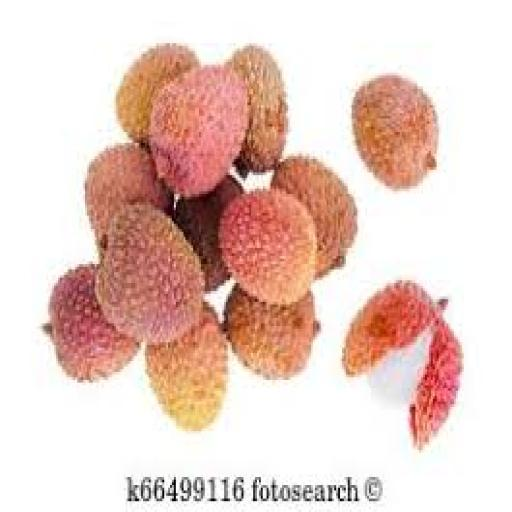lychee: (342, 275, 466, 453), (93, 205, 203, 342), (149, 62, 251, 202), (41, 264, 143, 391), (218, 189, 317, 307), (348, 70, 440, 191)
